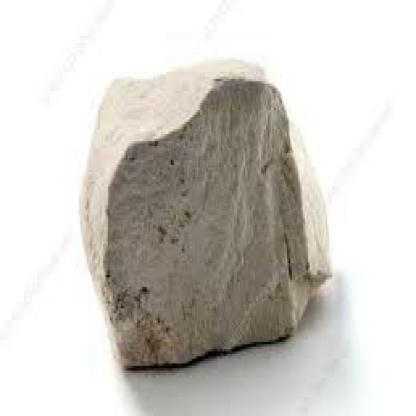Sedimentary_Chalk: (124, 67, 323, 363)
